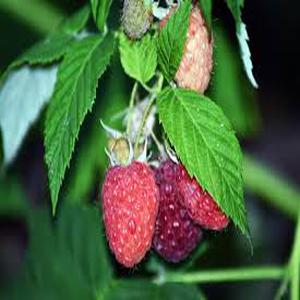raspb: (99, 159, 245, 273)
